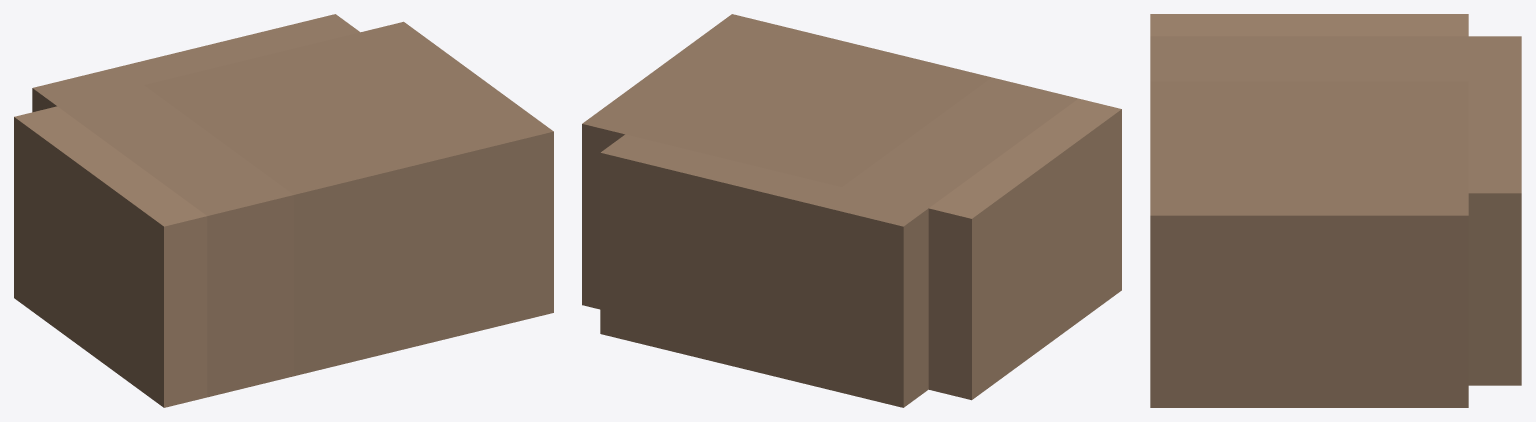
Rendered from yacimiento_arcilla_02.glb.
3 renders of one model, left to right at view 1: azimuth 30°, elevation 25°; view 2: azimuth 150°, elevation 25°; view 3: azimuth 270°, elevation 25°, orthographic. The views are drawn at different scales.
Visible parts, largest first — view 1: yacimiento_arcilla_02; view 2: yacimiento_arcilla_02; view 3: yacimiento_arcilla_02.
Part boxes in pixels (box(x1,y1,x2,y2)): yacimiento_arcilla_02: box(14, 14, 553, 407); yacimiento_arcilla_02: box(582, 14, 1121, 407); yacimiento_arcilla_02: box(1150, 14, 1521, 407).
Bounding box in the file's own units: 0.9 × 0.4 × 0.7.
